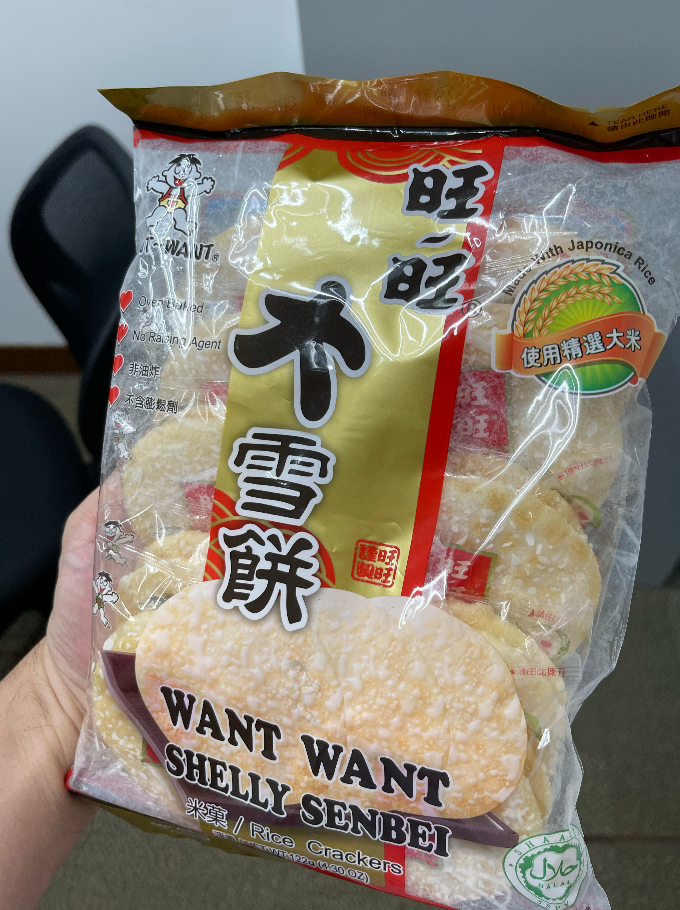crackers_100g-199g: (145, 126, 597, 885)
